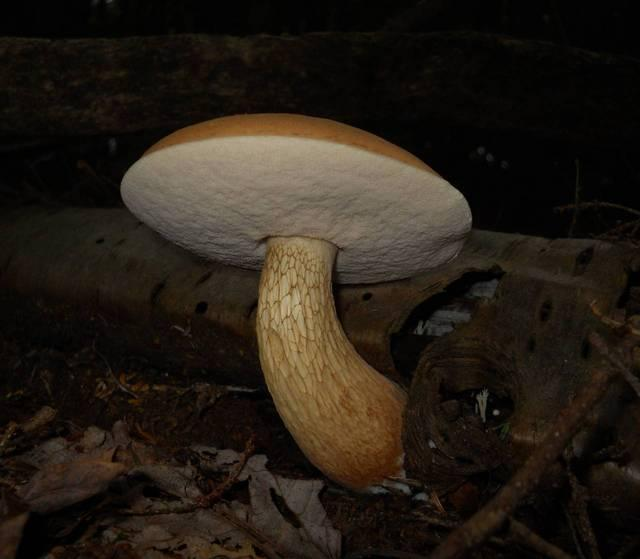Non-edible Mushroom: (118, 110, 474, 494)
